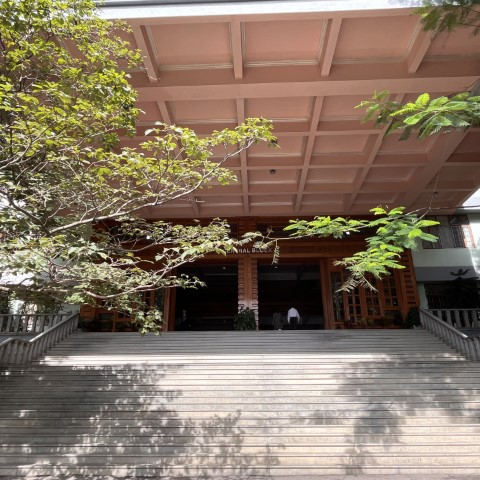Central Block: (70, 6, 480, 480)
